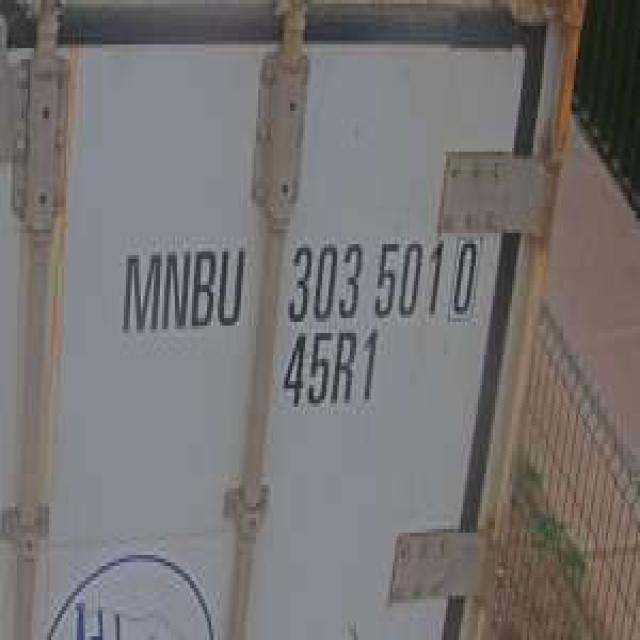dv: (448, 228, 484, 327)
owner: (116, 239, 246, 332)
serial: (283, 229, 446, 326)
size: (277, 328, 387, 416)
